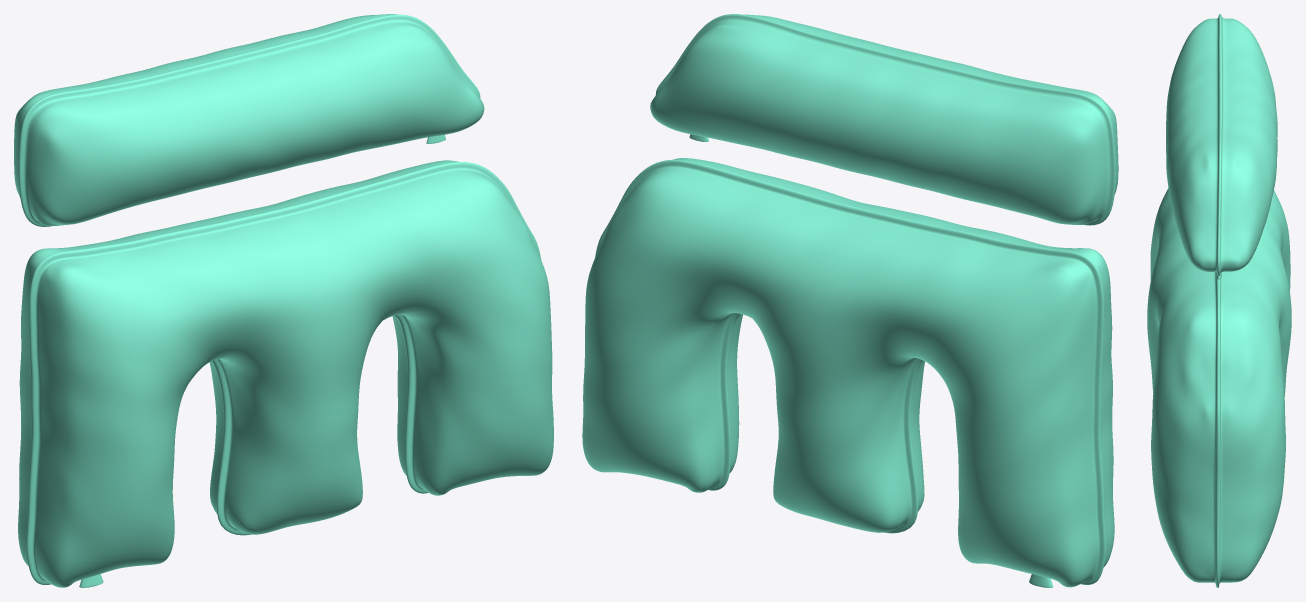
Rendered from Inflatable_letter_1_1.glb.
The picture shows the model from 3 angles, left to right: view 1: azimuth 30°, elevation 25°; view 2: azimuth 150°, elevation 25°; view 3: azimuth 270°, elevation 25°; orthographic projection. The views are drawn at different scales.
Parts seen in each view (by area): view 1: Inflatable_letter; view 2: Inflatable_letter; view 3: Inflatable_letter.
Part boxes in pixels (box(x1,y1,x2,y2)): Inflatable_letter: box(14, 14, 553, 587); Inflatable_letter: box(582, 14, 1118, 587); Inflatable_letter: box(1147, 14, 1291, 587).
Size of the model in its own units: 207 by 188 by 62.08.
